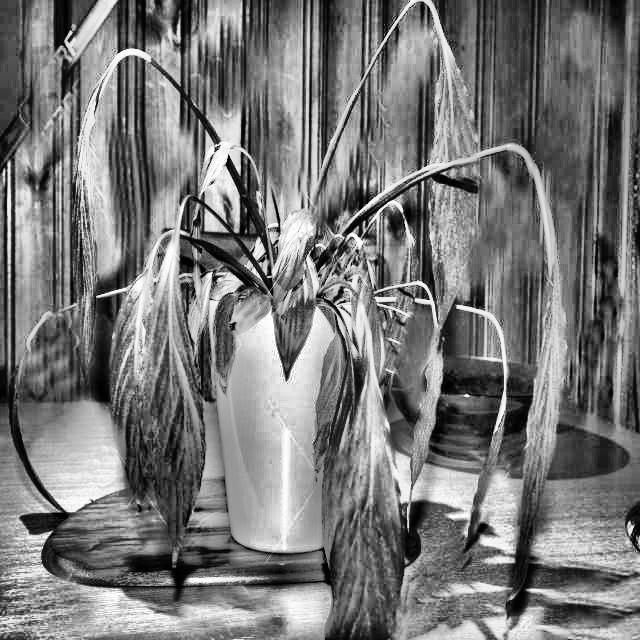plants: (3, 0, 601, 639)
